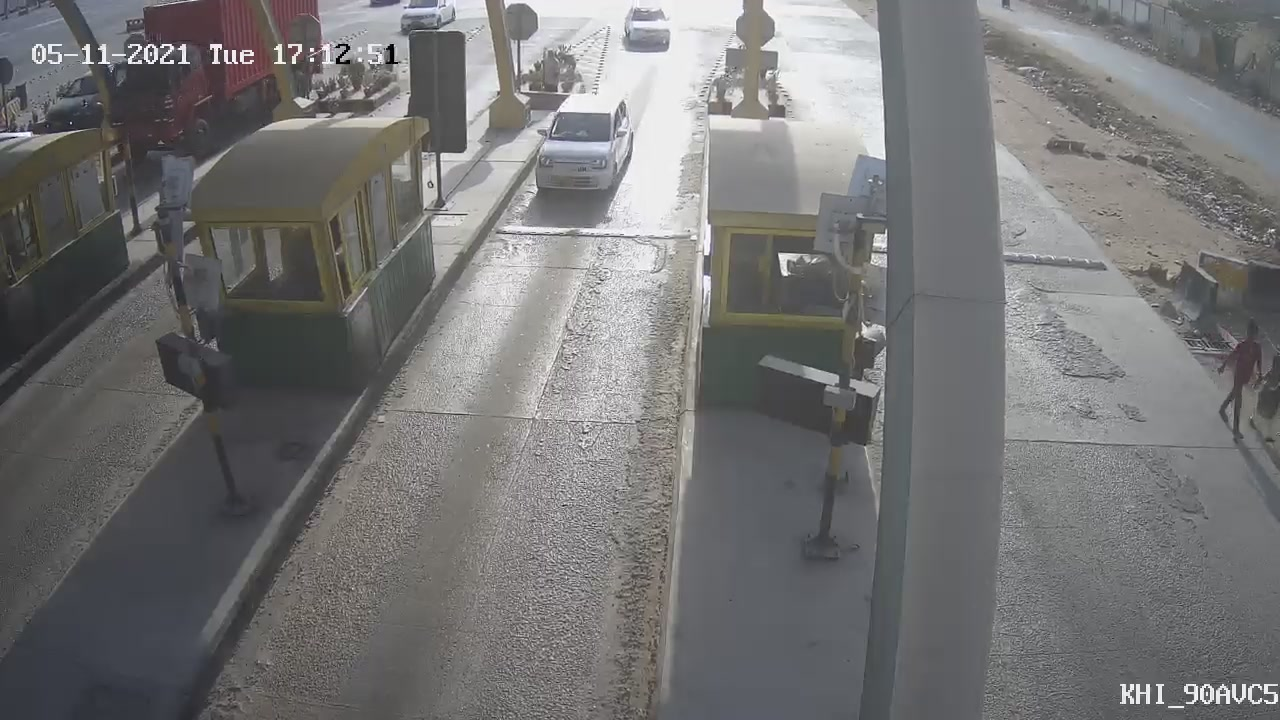F1: (516, 78, 655, 212)
